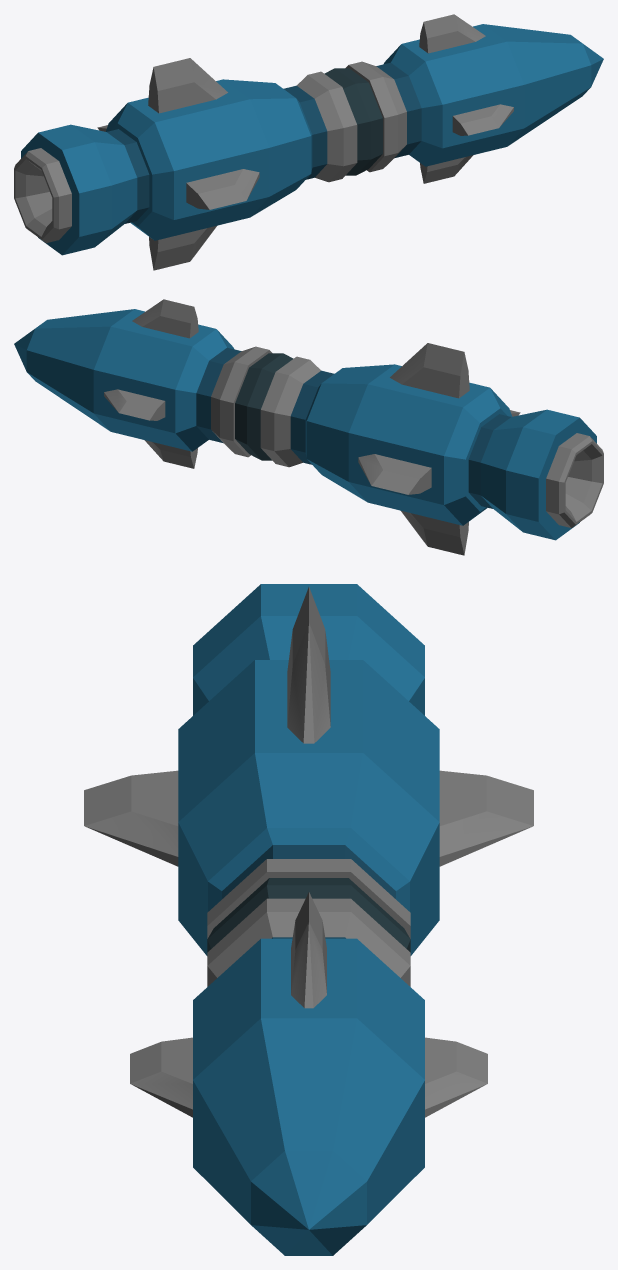
Rendered from Spacestation_Weapon_Torpedo.obj.
The picture shows the model from 3 angles, top to bottom: view 1: azimuth 30°, elevation 25°; view 2: azimuth 150°, elevation 25°; view 3: azimuth 270°, elevation 25°; orthographic projection. The views are drawn at different scales.
Visible parts, largest first — view 1: object12, object13, object16, object14, object1, object3, object4, object7, object2, object11, object15, object8 (+2 smaller); view 2: object12, object13, object16, object14, object1, object3, object4, object7, object2, object9, object15, object8 (+2 smaller); view 3: object13, object12, object16, object2, object11, object9, object4, object3, object7, object10, object6, object15 (+1 smaller).
Part boxes in pixels (bbox=[...]): object12: bbox=[105, 79, 312, 240]; object13: bbox=[384, 24, 603, 166]; object16: bbox=[21, 124, 137, 255]; object14: bbox=[14, 148, 71, 243]; object1: bbox=[107, 62, 421, 223]; object3: bbox=[297, 71, 357, 182]; object4: bbox=[148, 58, 227, 113]; object7: bbox=[324, 68, 382, 175]; object2: bbox=[345, 61, 406, 172]; object11: bbox=[186, 169, 259, 209]; object15: bbox=[419, 14, 485, 53]; object8: bbox=[149, 226, 216, 270]; object12: bbox=[305, 364, 512, 525]; object13: bbox=[14, 309, 233, 451]; object16: bbox=[480, 409, 596, 540]; object14: bbox=[546, 433, 603, 528]; object1: bbox=[196, 347, 510, 508]; object3: bbox=[260, 356, 320, 467]; object4: bbox=[390, 343, 469, 398]; object7: bbox=[235, 353, 293, 460]; object2: bbox=[211, 346, 272, 457]; object9: bbox=[358, 454, 431, 494]; object15: bbox=[132, 299, 198, 338]; object8: bbox=[401, 511, 468, 555]; object13: bbox=[193, 938, 424, 1255]; object12: bbox=[178, 660, 439, 955]; object16: bbox=[193, 584, 424, 715]; object2: bbox=[207, 898, 410, 986]; object11: bbox=[84, 770, 178, 866]; object9: bbox=[439, 770, 533, 866]; object4: bbox=[287, 587, 330, 743]; object3: bbox=[207, 859, 410, 938]; object7: bbox=[207, 878, 410, 952]; object10: bbox=[130, 1037, 192, 1117]; object6: bbox=[425, 1037, 487, 1117]; object15: bbox=[291, 892, 326, 1008].
Size of the model in its own units: 0.5238 by 0.1789 by 0.1789.
